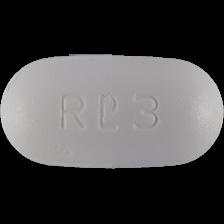55111-123: (0, 0, 224, 224)
